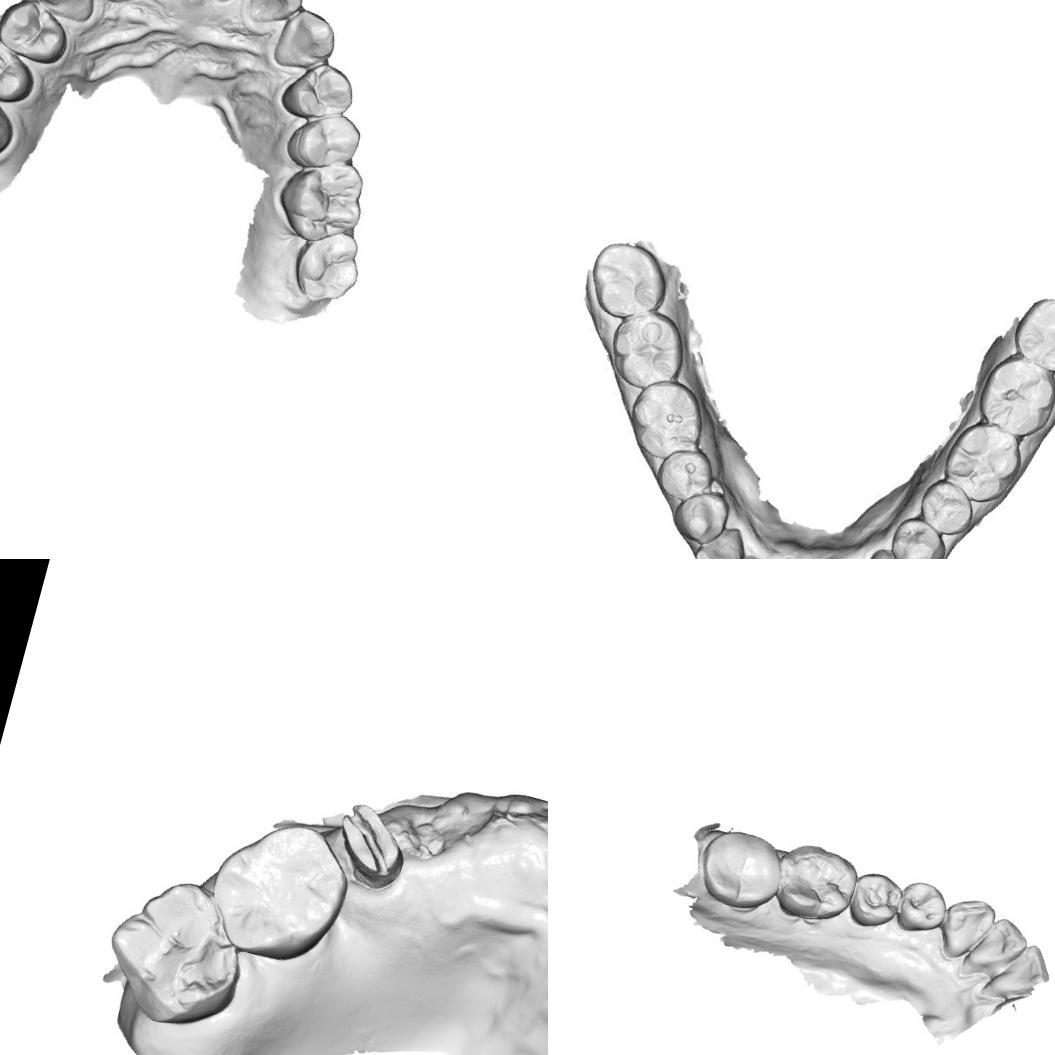canine: (268, 2, 342, 78), (934, 888, 1001, 966), (668, 483, 734, 549), (30, 0, 104, 25), (856, 544, 920, 559)
crown: (322, 795, 420, 896)
incisor: (985, 932, 1055, 1009), (961, 908, 1034, 981), (687, 518, 750, 559), (240, 0, 308, 32)
molar: (92, 862, 262, 1041), (194, 803, 362, 976), (266, 145, 378, 256), (766, 834, 865, 933), (692, 821, 790, 917), (620, 370, 714, 468), (600, 301, 694, 397), (936, 414, 1029, 511), (581, 235, 676, 328), (970, 344, 1055, 443), (283, 220, 368, 312), (1005, 289, 1055, 378), (0, 69, 22, 179)
premolar: (280, 101, 368, 180), (274, 51, 359, 131), (0, 0, 77, 64), (843, 866, 912, 936), (912, 473, 980, 540), (650, 441, 718, 506), (891, 876, 955, 943), (884, 511, 953, 559), (0, 37, 40, 102)
